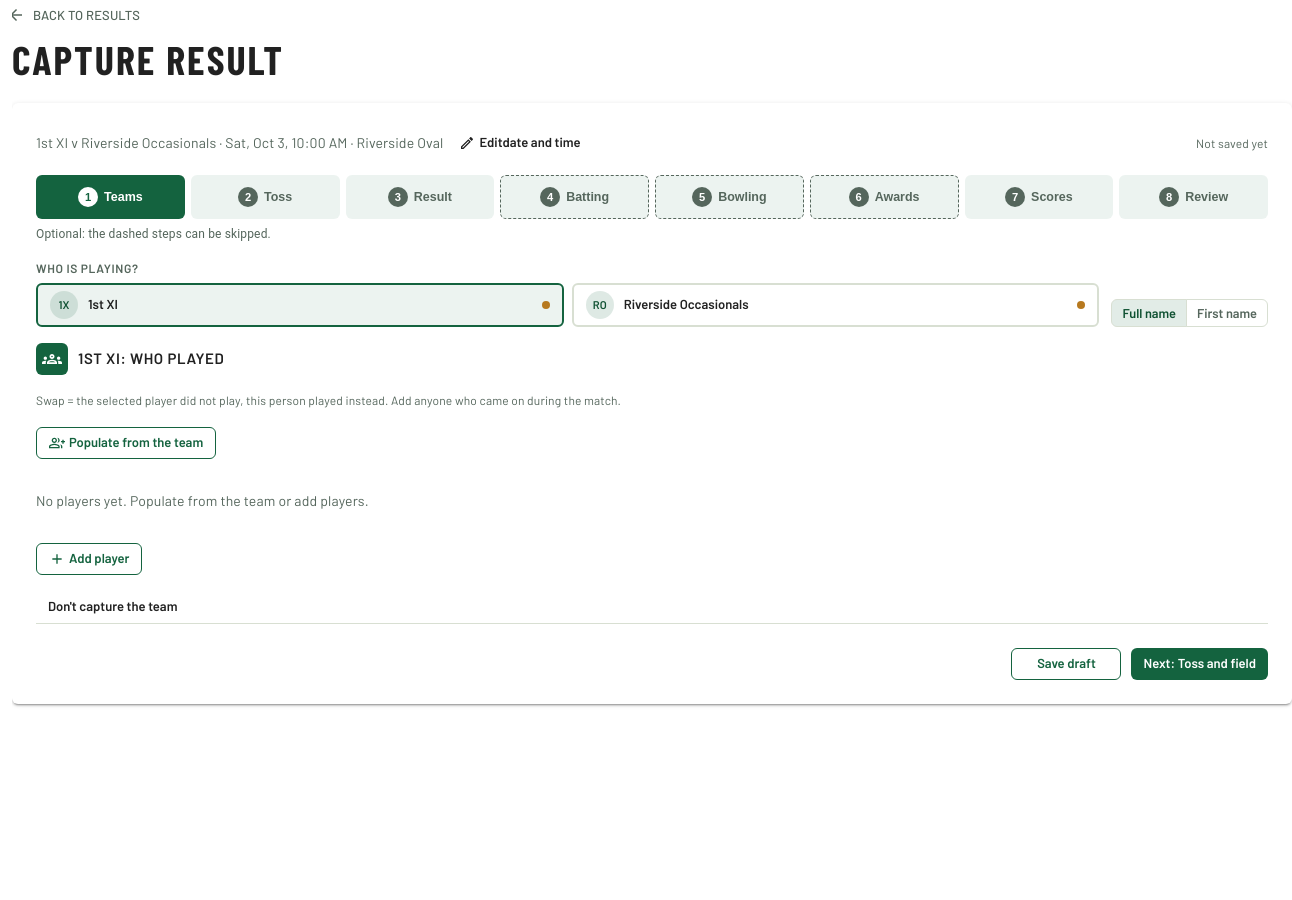
ResultCapturePage › walks Next through the steps and Back returns, ticking the earlier steps
The width and height of the screenshot is (1292, 900).
Expected: the heading "Capture result" is shown, [12,35,284,83]
Expected: the button "Populate from the team" is shown, [36,427,216,459]
Click the button "Next: Toss and field" at (1200, 664), box [1131,648,1268,680]
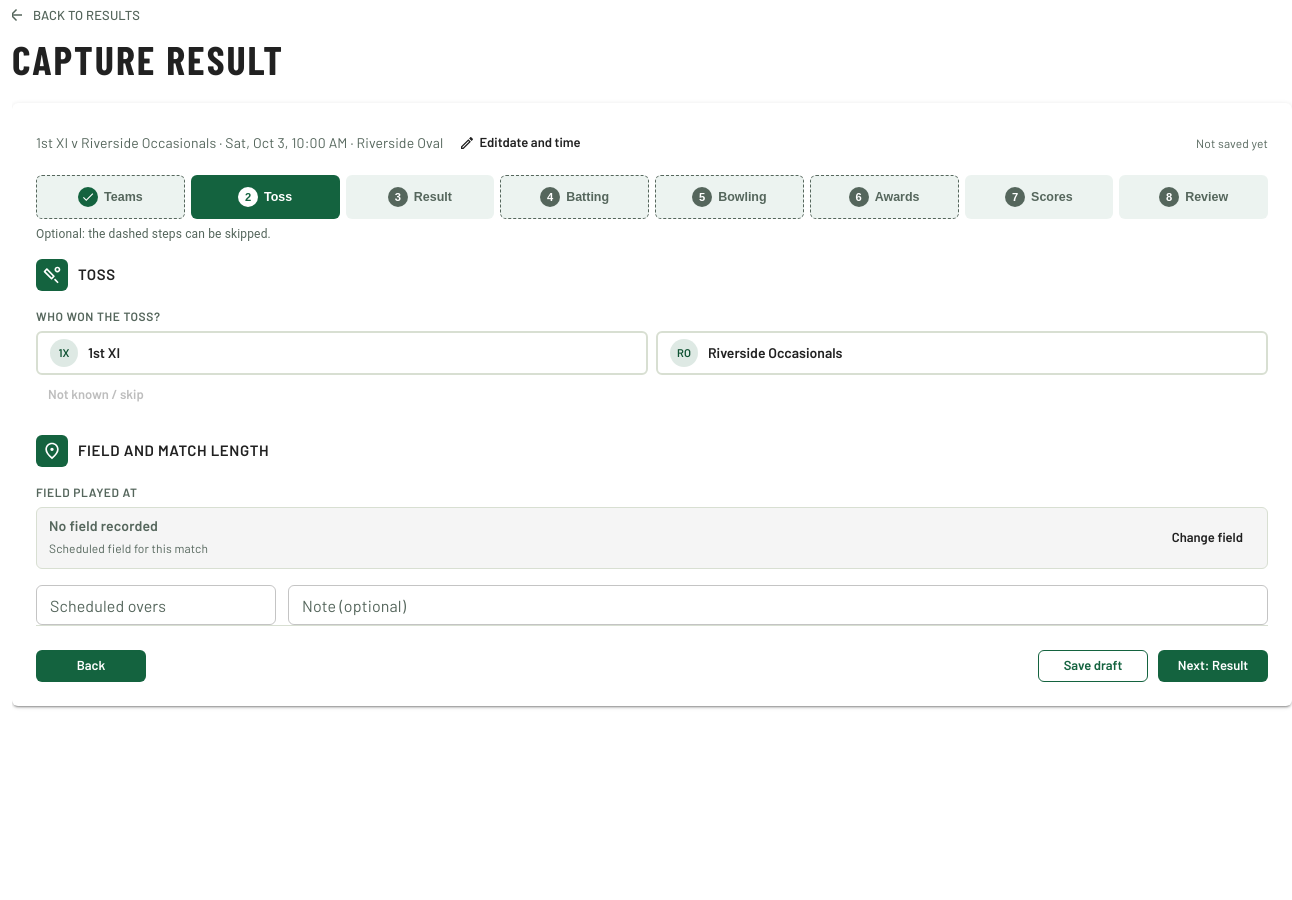
Expected: the text "Who won the toss?" is shown, [36,309,161,323]
Click the button "Next: Result" at (1213, 666), box [1158,650,1268,682]
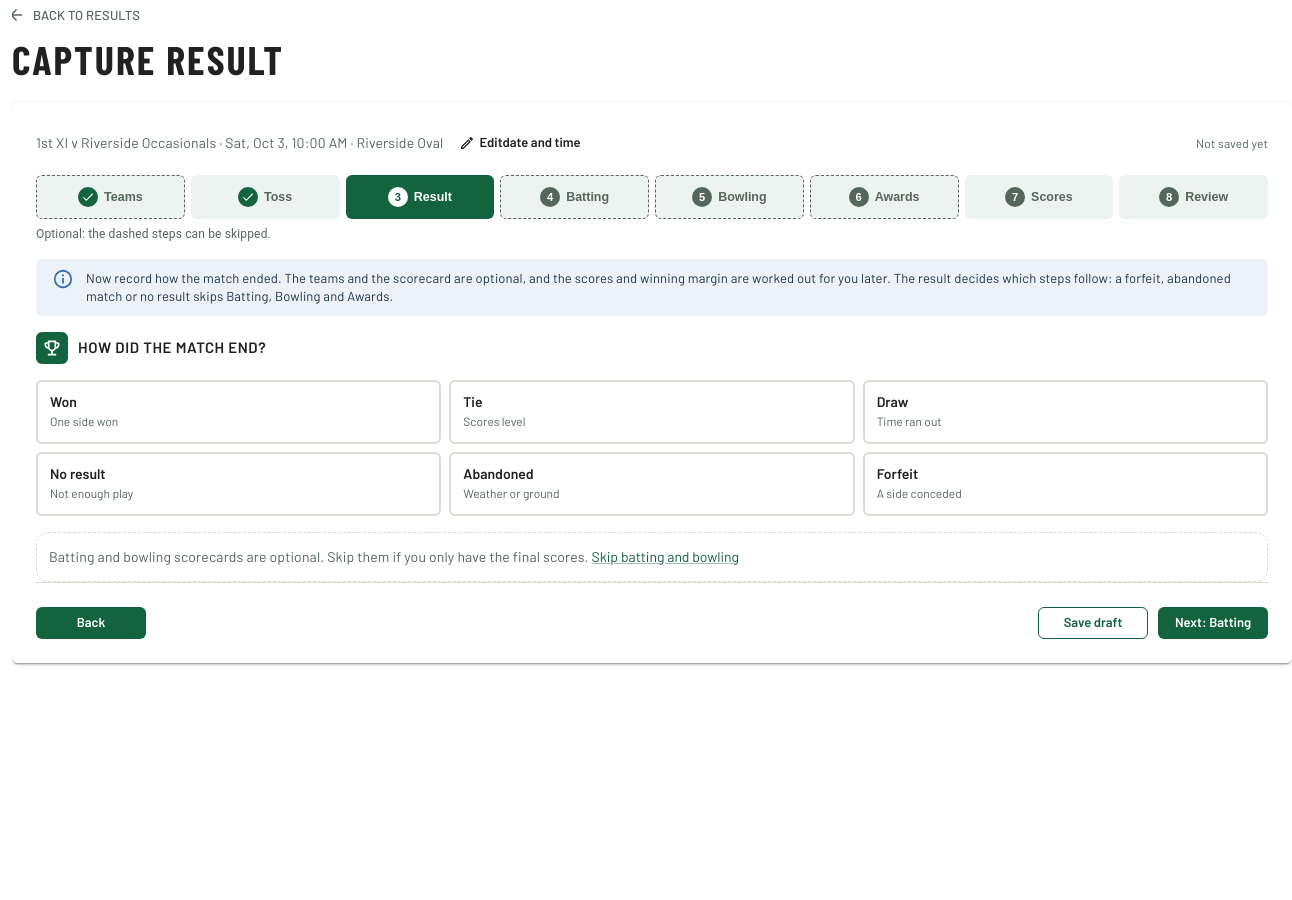
Expected: the heading "How did the match end?" is shown, [78,336,266,360]
Click the button "Next: Batting" at (1213, 623), box [1158,607,1268,639]
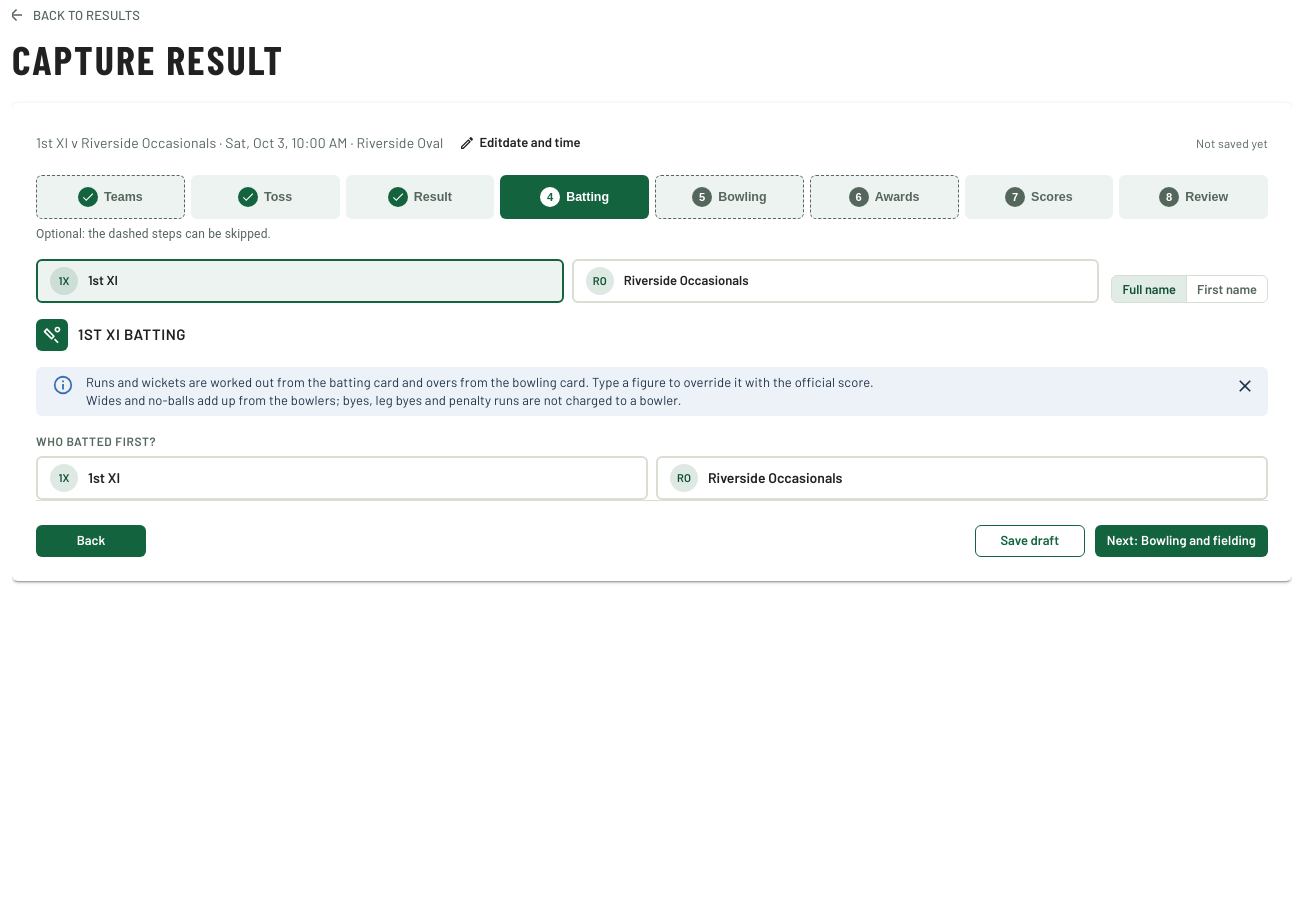
Expected: the text "Who batted first?" is shown, [36,434,156,448]
Click the button "Back" at (91, 541), box [36,525,146,557]
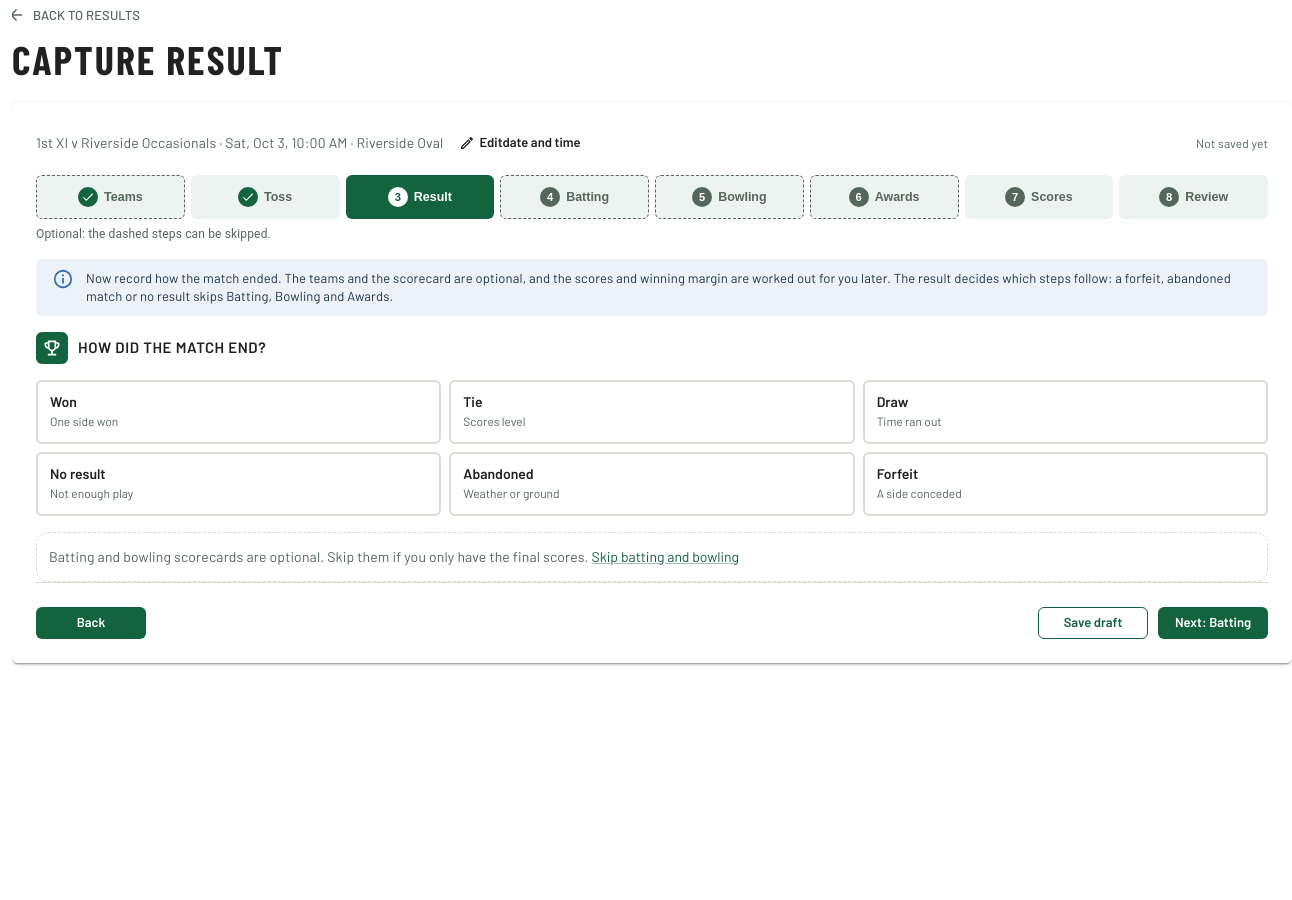
Expected: the heading "How did the match end?" is shown, [78,336,266,360]
